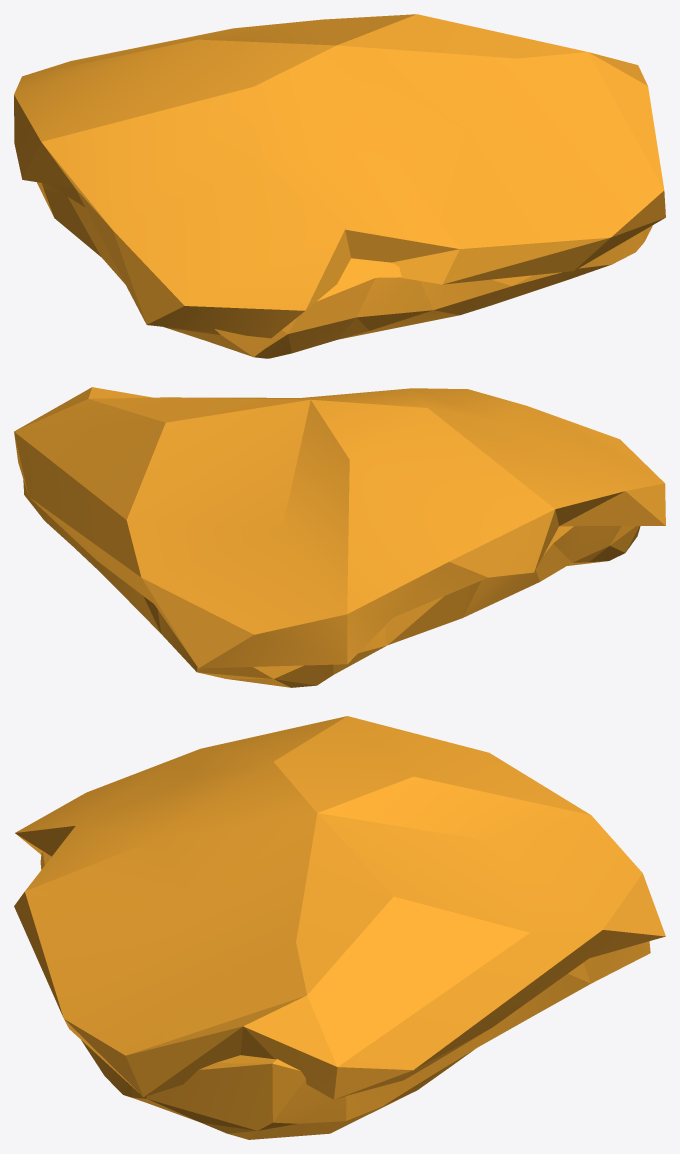
File: SM_Menhir_Flat_C_Snow.fbx
3 renders of one model, top to bottom at view 1: azimuth 30°, elevation 25°; view 2: azimuth 150°, elevation 25°; view 3: azimuth 270°, elevation 25°, orthographic. The views are drawn at different scales.
Parts seen in each view (by area): view 1: menhir-flat-c-snow; view 2: menhir-flat-c-snow; view 3: menhir-flat-c-snow.
Boxes of the visible parts, <box> form: menhir-flat-c-snow: <box>14,14,665,358</box>; menhir-flat-c-snow: <box>14,387,665,687</box>; menhir-flat-c-snow: <box>14,716,665,1139</box>.
Size of the model in its own units: 5.58 by 1.73 by 5.28.
